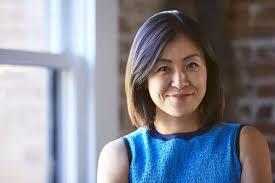person: (124, 7, 229, 133)
